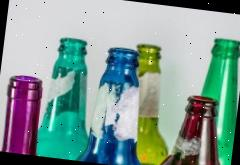glass: (0, 12, 240, 165)
